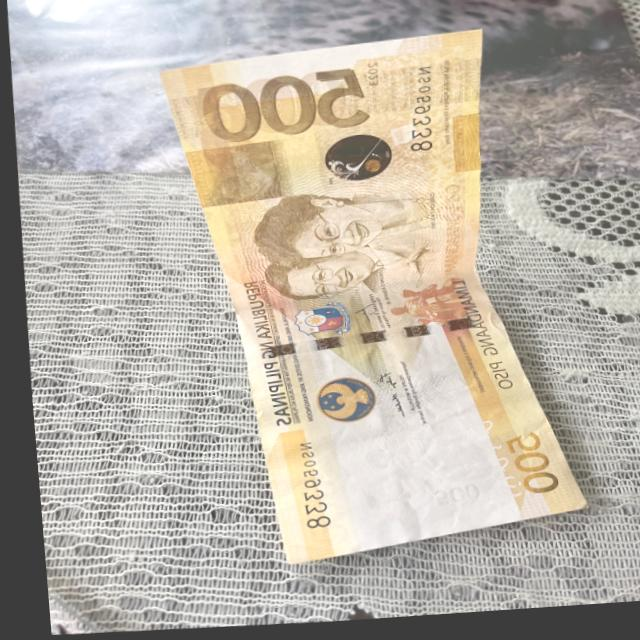concealed_value: (181, 145, 275, 208)
optically_variable_device: (306, 133, 399, 187)
security_thread: (248, 316, 479, 370)
see_through_mark: (464, 419, 518, 506)
serial_number: (385, 65, 444, 167), (278, 441, 327, 546)
value: (189, 52, 372, 150)
value_watermark: (421, 482, 479, 512)
